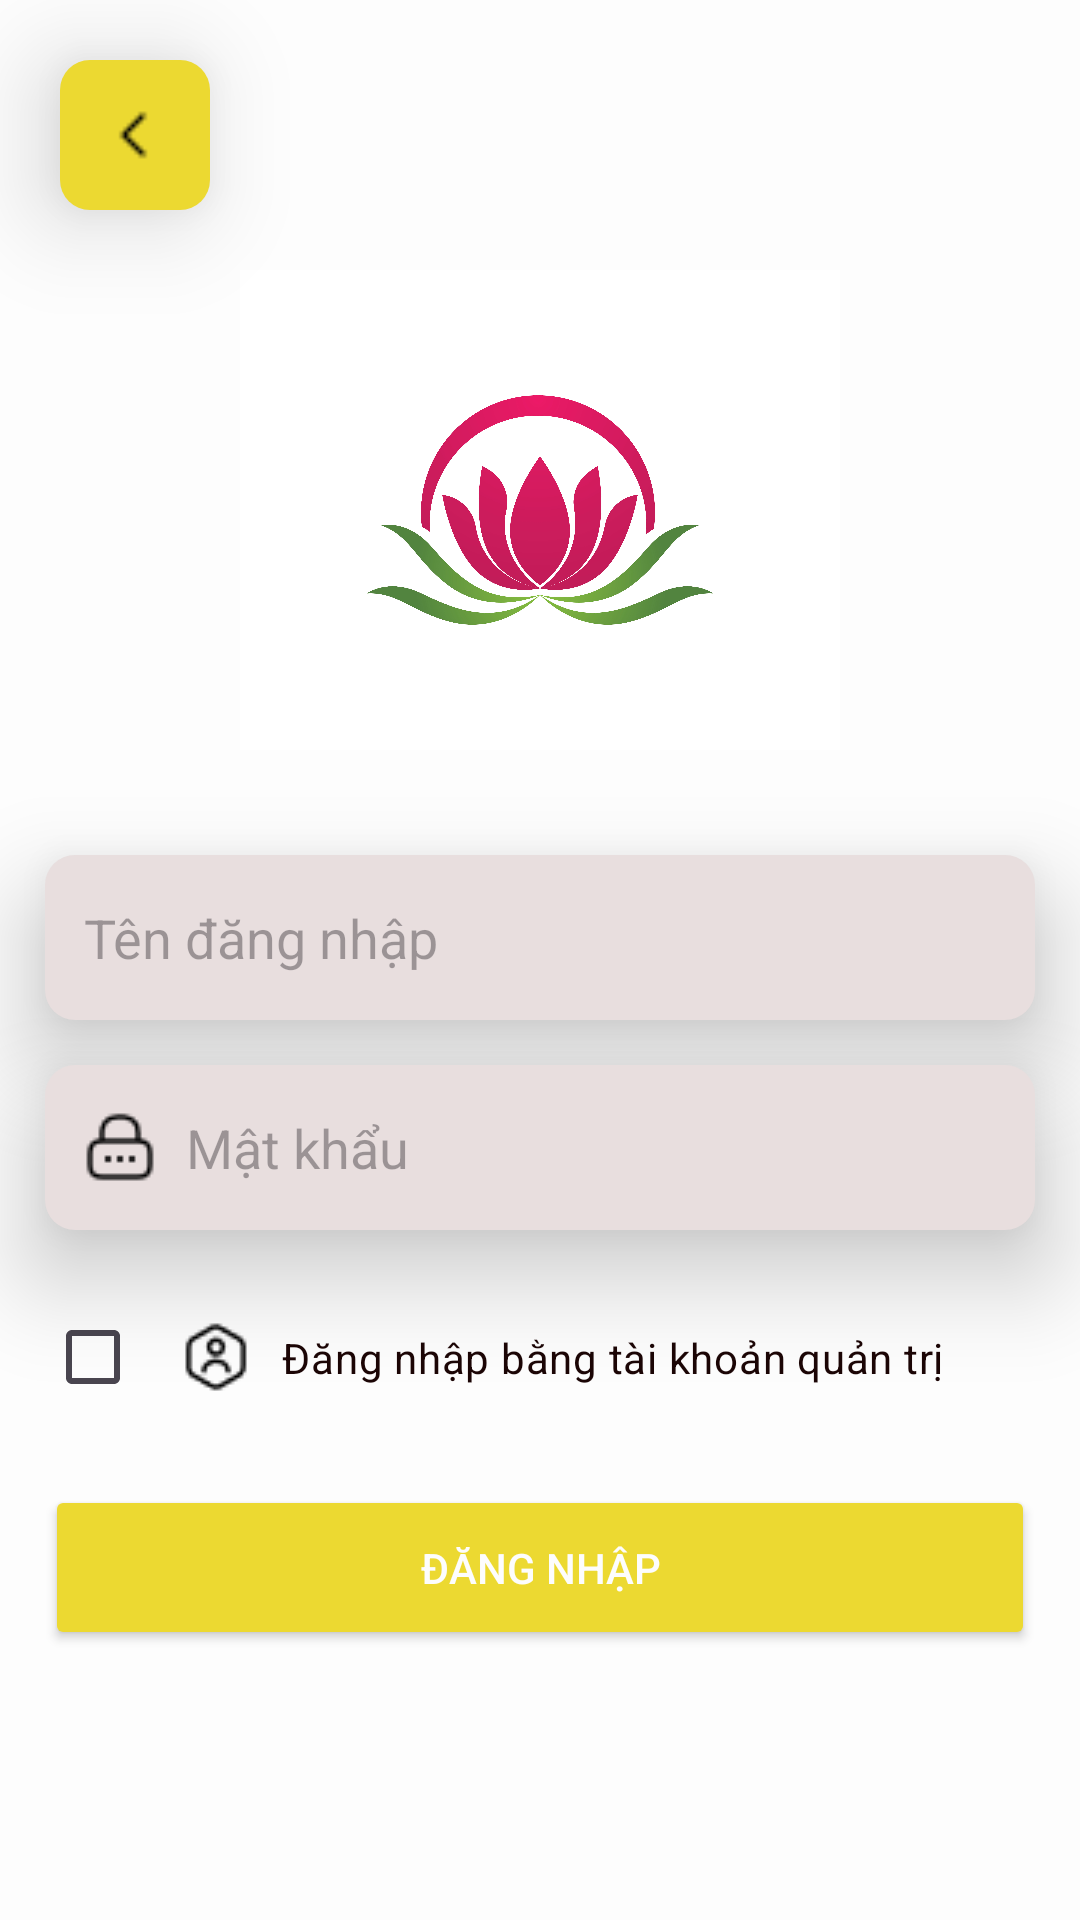

Named icons in this screenshot (1080x1920) and their bounding boxes, box=[x1, y1, x2, y2]:
back: box=[60, 60, 210, 210]
